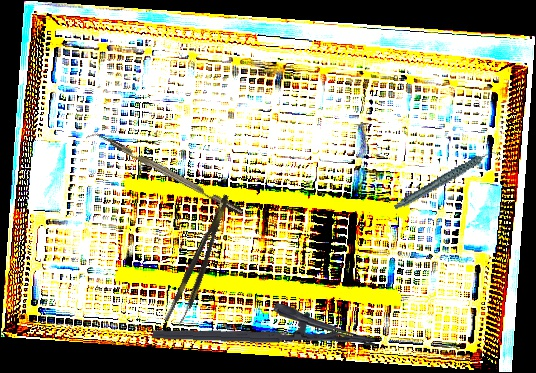Chopper: (85, 126, 244, 223)
Handpiece: (386, 148, 508, 211)
Needle Holder: (152, 298, 377, 348)
Tissue Forceps: (163, 193, 241, 328)
